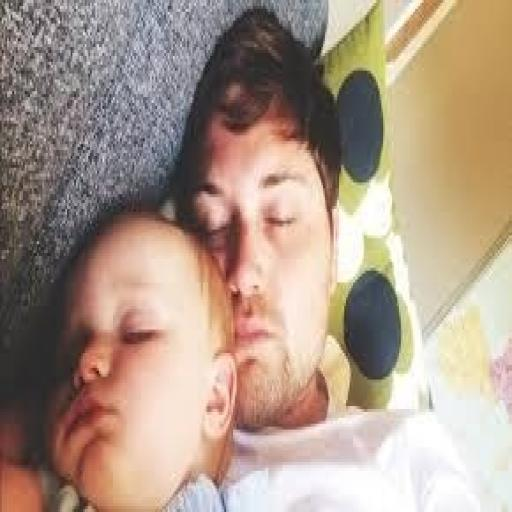sleeping: (0, 59, 430, 512)
